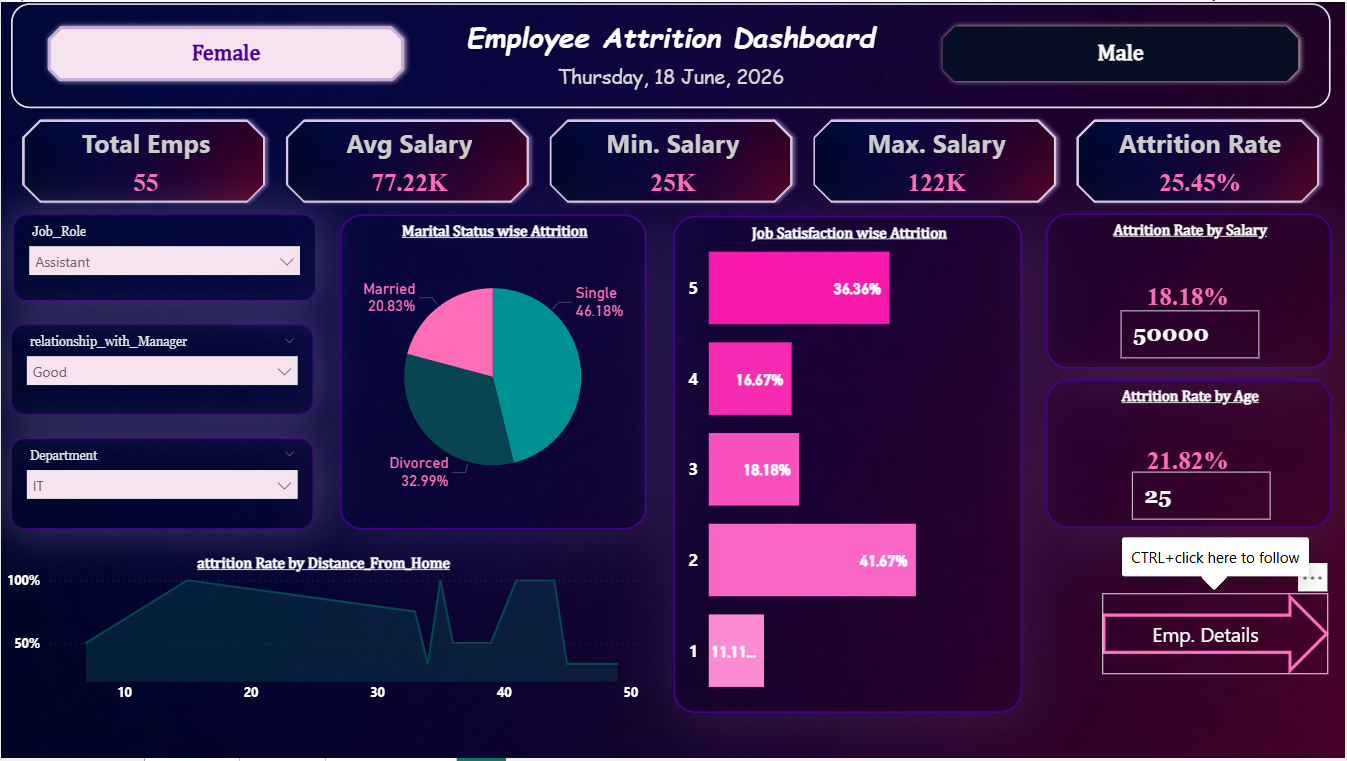

This screenshot's page, from the dashboard's own definition file:
{"tool":"powerbi","page":{"name":"Main","canvas":[1280,720],"ordinal":0},"visuals":[{"type":"textbox","box":[10,1.4,1257.1,100],"z":0},{"type":"card","fields":{"Values":["emp_attrition.Current date"]},"box":[467.1,44.3,342.9,57.1],"z":1000},{"type":"cardVisual","fields":{"Data":["CountNonNull(emp_attrition.Employee_ID)","Avg(emp_attrition.Monthly_Income)","Min(emp_attrition.Monthly_Income)1","Max(emp_attrition.Monthly_Income)2","emp_attrition.attrition Rate"]},"box":[9.5,101.2,1257.1,101.2],"z":2000},{"type":"slicer","fields":{"Values":["emp_attrition.Department"]},"box":[10,415.6,287.8,86.7],"z":3000},{"type":"slicer","fields":{"Values":["emp_attrition.Job_Role"]},"box":[12.2,202.2,287.8,82.2],"z":4000},{"type":"slicer","fields":{"Values":["emp_attrition.relationship_with_Manager"]},"box":[10,306.7,287.8,85.6],"z":5000},{"type":"advancedSlicerVisual","fields":{"Values":["emp_attrition.Gender"]},"box":[32.8,12.3,1214.4,75.9],"z":6000},{"type":"pieChart","title":"Marital Status wise Attrition","fields":{"Y":["emp_attrition.attrition Rate"],"Category":["emp_attrition.Marital_Status"]},"box":[322.2,202.2,292.2,300],"z":7000},{"type":"clusteredBarChart","title":"Job Satisfaction wise Attrition","fields":{"Category":["emp_attrition.Job_Satisfaction"],"Y":["emp_attrition.attrition Rate"]},"box":[640,203.5,332.1,474],"z":8000},{"type":"cardVisual","title":"Attrition Rate by Salary","fields":{"Data":["emp_attrition.attrition Rate high salary"]},"box":[995,201.7,271.7,148.3],"z":9000},{"type":"lineChart","fields":{"Y":["emp_attrition.attrition Rate"],"Category":["emp_attrition.Distance_From_Home"]},"box":[0,527.8,614.4,148.9],"z":10000},{"type":"slicer","fields":{"Values":["Parameter.Parameter"]},"box":[1053.3,283.3,163.3,90],"z":11000},{"type":"cardVisual","title":"Attrition Rate by Age","fields":{"Data":["emp_attrition.attrition Rate Age"]},"box":[995,359,271.7,141.7],"z":12000},{"type":"actionButton","box":[1048.7,562.9,215.9,77.1],"z":13000},{"type":"slicer","fields":{"Values":["age.age"]},"box":[1064,437,157.9,75],"z":14000}]}

Visuals, with their boxes in screenshot pixels (x1, y1, x2, y2), scaled from the page's 1280x720 canvas onto the 1347x761 screenshot:
textbox: bbox=(11, 1, 1333, 107)
card - emp_attrition.Current date: bbox=(492, 47, 852, 107)
cardVisual - CountNonNull(emp_attrition.Employee_ID) x Avg(emp_attrition.Monthly_Income): bbox=(10, 107, 1333, 214)
slicer - emp_attrition.Department: bbox=(11, 439, 313, 531)
slicer - emp_attrition.Job_Role: bbox=(13, 214, 316, 301)
slicer - emp_attrition.relationship_with_Manager: bbox=(11, 324, 313, 415)
advancedSlicerVisual - emp_attrition.Gender: bbox=(35, 13, 1312, 93)
"Marital Status wise Attrition" pieChart: bbox=(339, 214, 647, 531)
"Job Satisfaction wise Attrition" clusteredBarChart: bbox=(674, 215, 1023, 716)
"Attrition Rate by Salary" cardVisual: bbox=(1047, 213, 1333, 370)
lineChart - emp_attrition.attrition Rate x emp_attrition.Distance_From_Home: bbox=(0, 558, 647, 715)
slicer - Parameter.Parameter: bbox=(1108, 299, 1280, 395)
"Attrition Rate by Age" cardVisual: bbox=(1047, 379, 1333, 529)
actionButton: bbox=(1104, 595, 1331, 676)
slicer - age.age: bbox=(1120, 462, 1286, 541)
